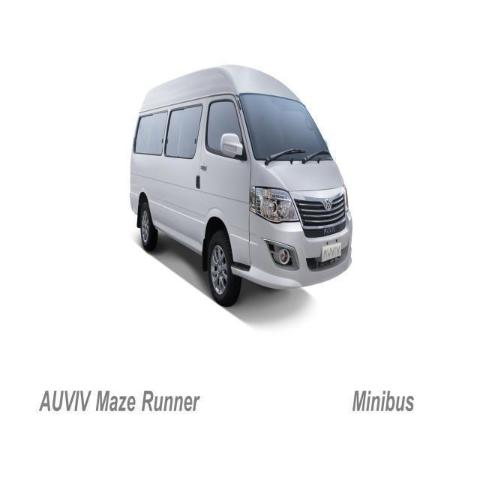van: (127, 61, 354, 312)
